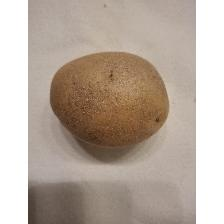Kartoffel: (48, 47, 174, 153)
